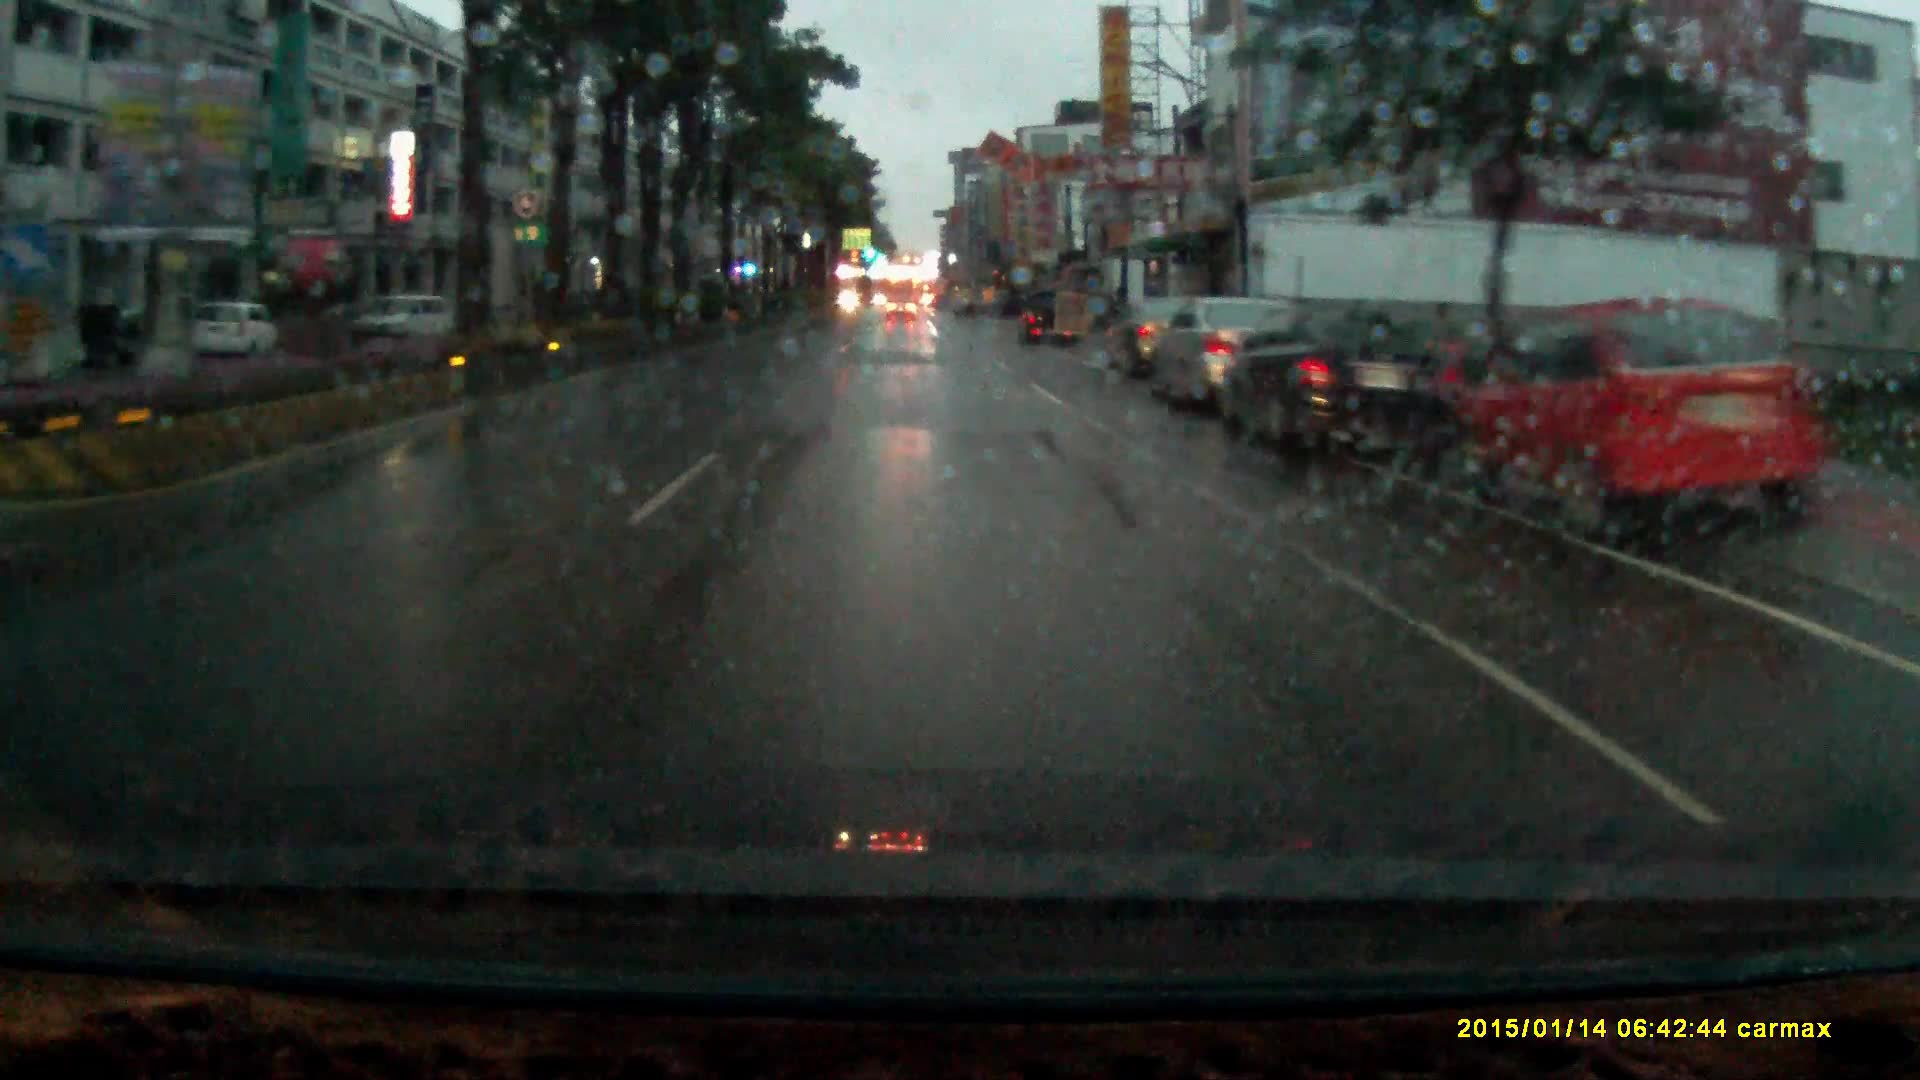vehicle: (1457, 294, 1824, 539), (1217, 301, 1457, 460), (1149, 294, 1303, 404), (1102, 298, 1185, 375), (344, 293, 458, 345), (195, 301, 281, 356), (1013, 286, 1081, 351), (886, 294, 916, 324)
